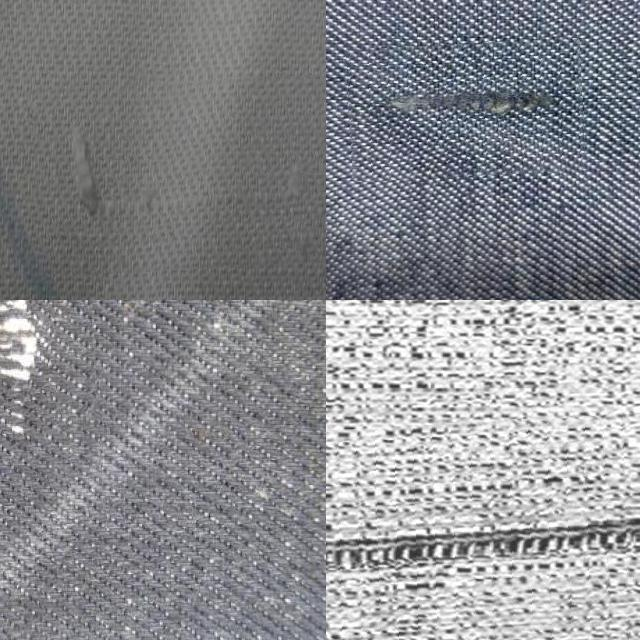stains: (326, 414, 640, 640), (33, 77, 326, 273), (348, 40, 584, 179), (0, 300, 98, 484)
